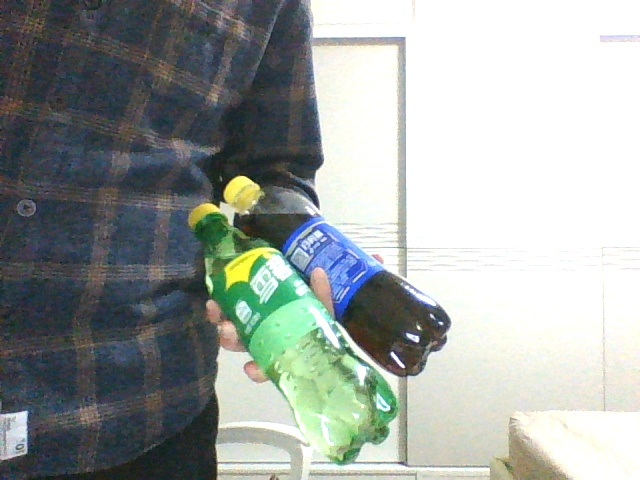Cola: (224, 177, 452, 370)
Sprite: (189, 204, 397, 468)
